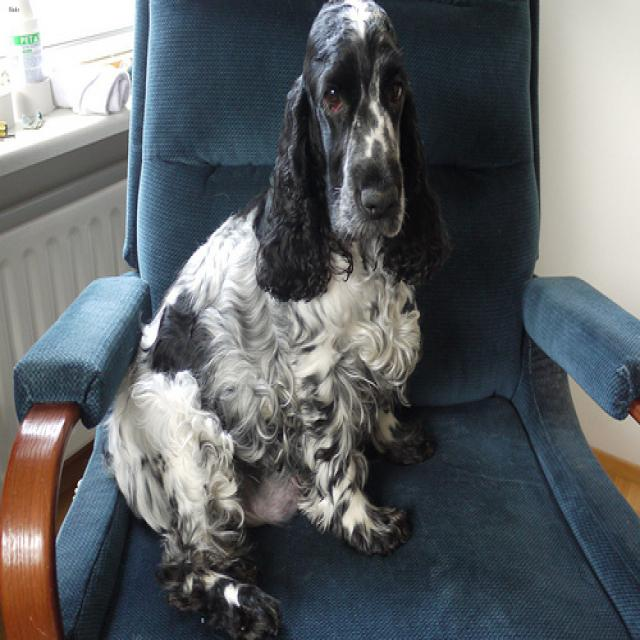dog-english_cocker_spaniel: (97, 2, 458, 637)
